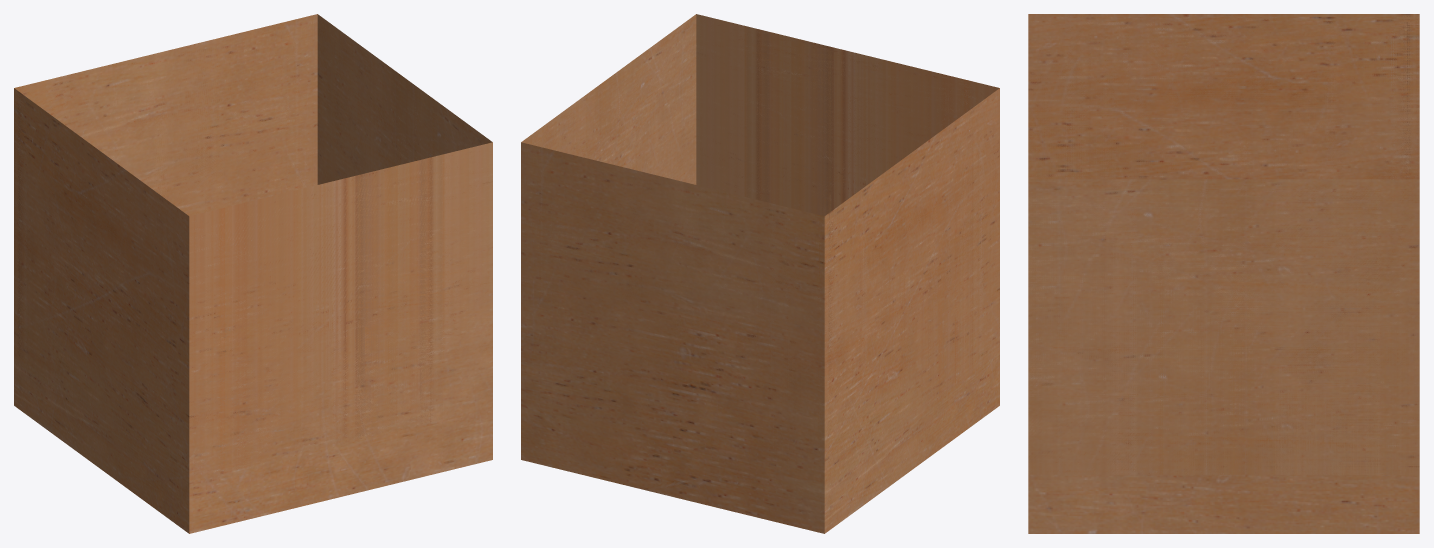
The model's file is PlantPot-WoodenTexture.glb.
3 views of the same model, side by side, from view 1: azimuth 30°, elevation 25°; view 2: azimuth 150°, elevation 25°; view 3: azimuth 270°, elevation 25° (orthographic). The views are drawn at different scales.
Parts seen in each view (by area): view 1: Cube; view 2: Cube; view 3: Cube.
Part boxes in pixels (box(x1,y1,x2,y2)): Cube: box(14, 14, 492, 533); Cube: box(521, 14, 999, 533); Cube: box(1028, 14, 1419, 533).
Bounding box in the file's own units: 1 × 1 × 1.
Materials: 1 (1 with a texture image).
